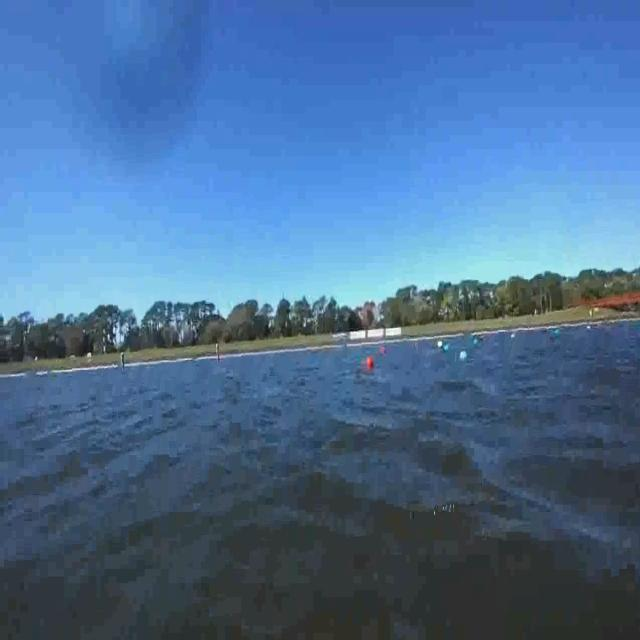green-buoy: (554, 327, 562, 338)
red-buoy: (366, 356, 373, 370)
